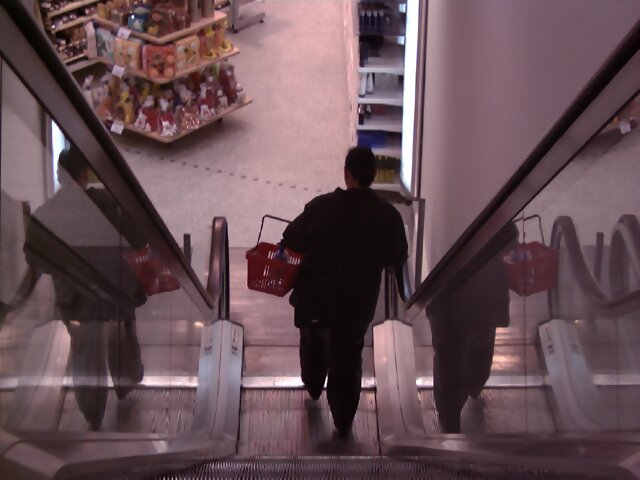person: (293, 144, 398, 441)
